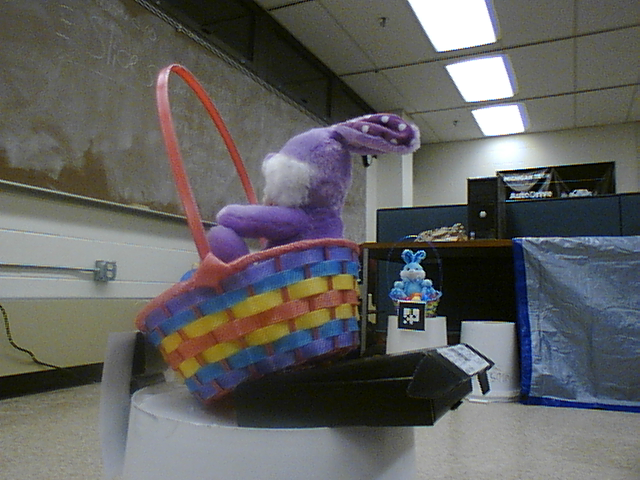bunny: (138, 74, 424, 406), (379, 231, 448, 321)
